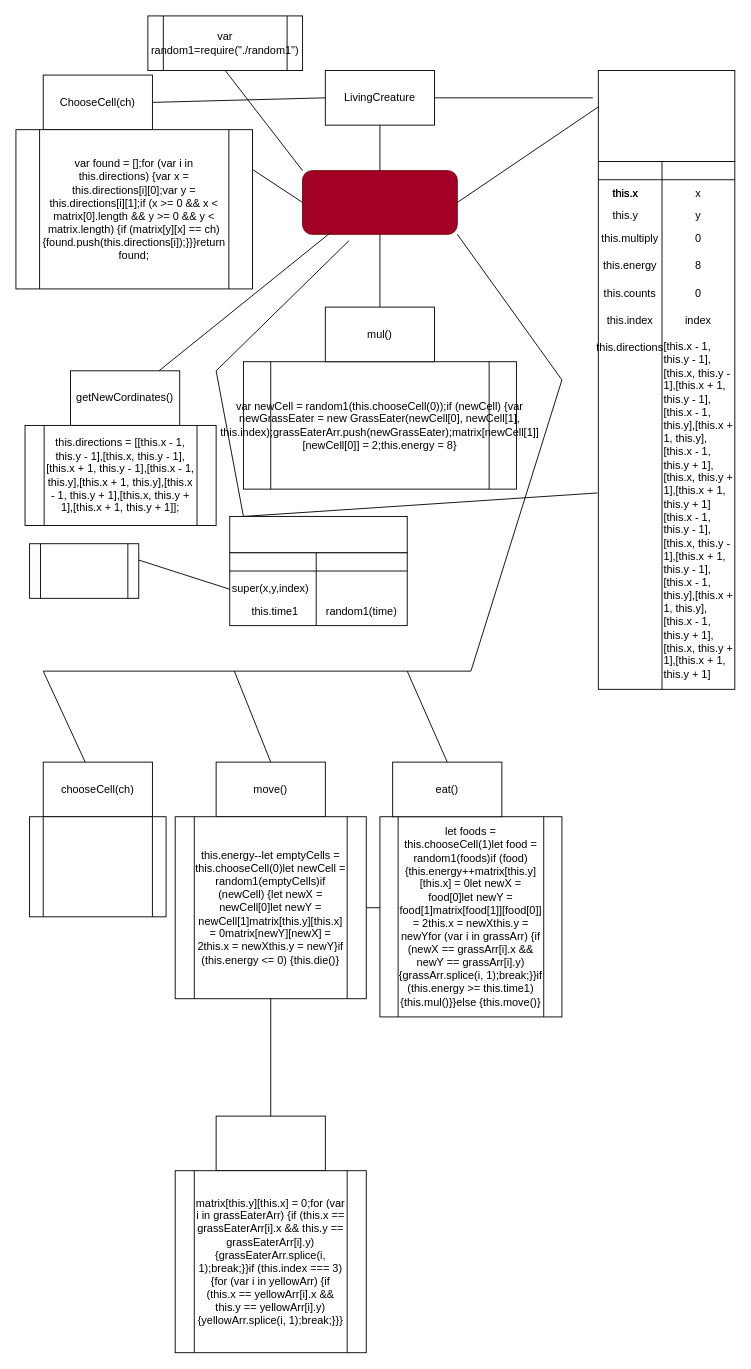
Some shapes in this 751 by 1369 pixel diagram are drawn without their labels. The box of each missing label's shape, as (x1, y1, x2, y2) in pixels:
Constructor(x,y,index): (229, 516, 407, 553)
Counstructor(x,y,index): (597, 70, 735, 162)
die(): (215, 1115, 325, 1171)
GrassEater: (302, 170, 457, 234)
this.getNewCoordinates() return super.chooseCell(ch);: (29, 816, 166, 917)
var time=[16,18]: (29, 543, 139, 598)
